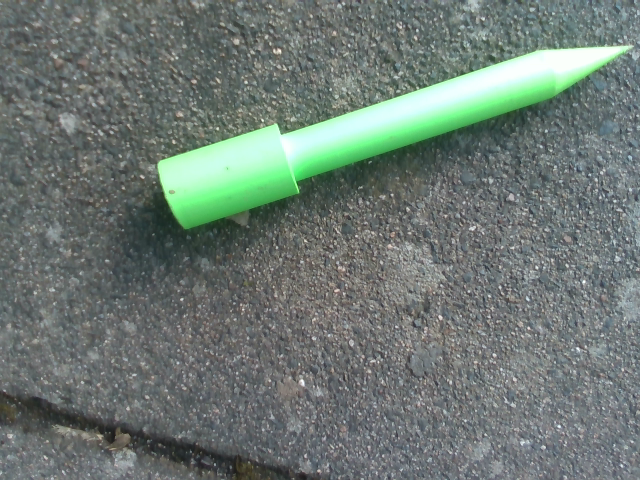Probe: (149, 19, 640, 244)
